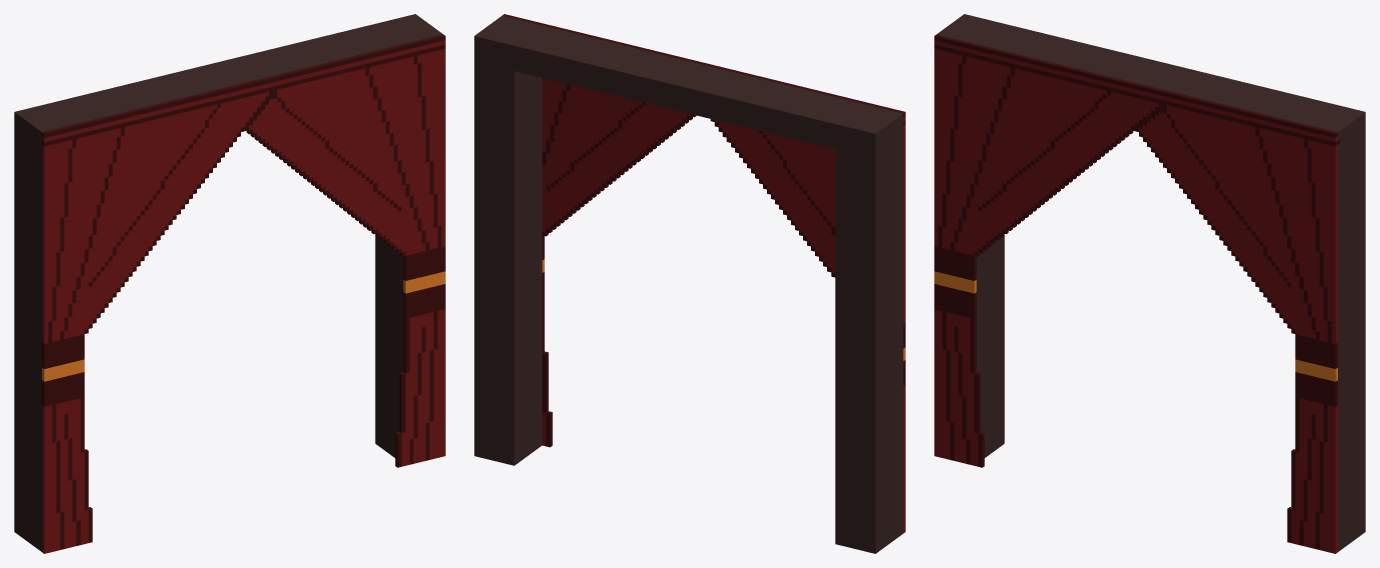
Rendered from GGJ curtain door.obj.
3 renders of one model, left to right at view 1: azimuth 30°, elevation 25°; view 2: azimuth 150°, elevation 25°; view 3: azimuth 330°, elevation 25°, orthographic.
Size of the model in its own units: 10 by 10 by 1.3.
Materials: 1 (1 with a texture image).
